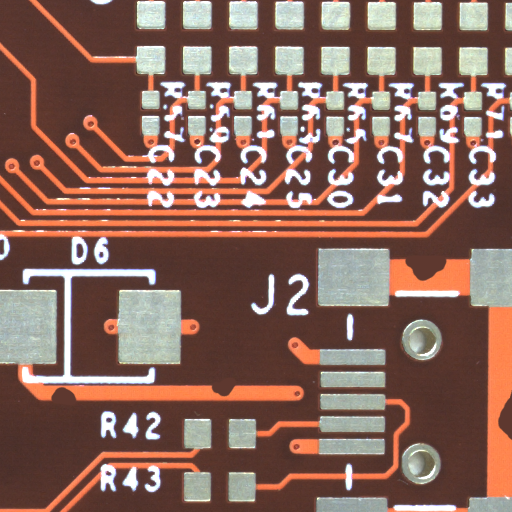Mouse_bite: (427, 266, 484, 297), (66, 395, 106, 417), (501, 413, 512, 492), (224, 388, 258, 408)
